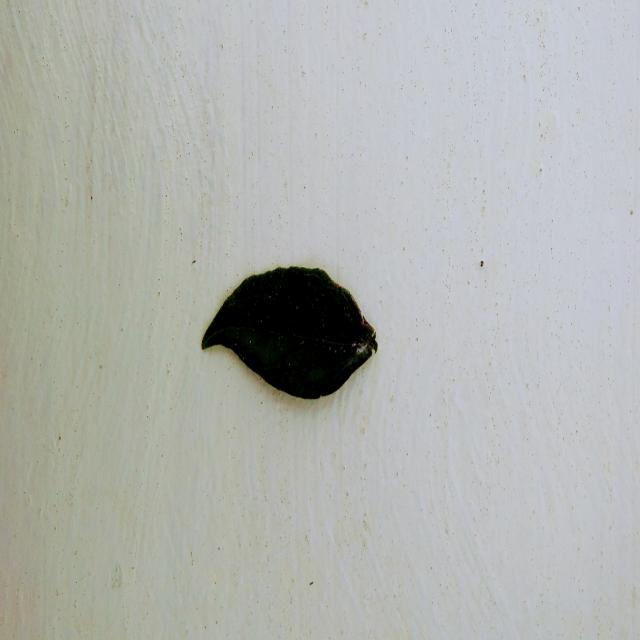Parijatha: (201, 267, 378, 398)
